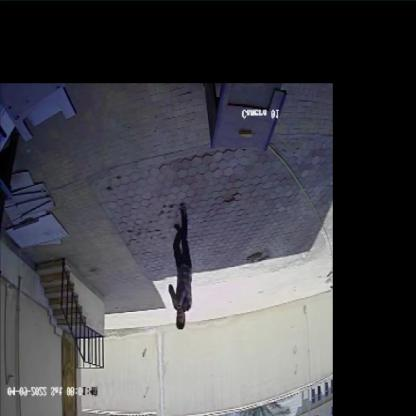handgun: (174, 298, 187, 316)
